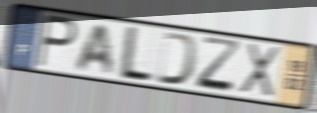A: (73, 22, 116, 77)
D: (154, 30, 201, 89)
L: (115, 24, 156, 85)
P: (33, 12, 79, 71)
X: (236, 41, 282, 101)
Z: (194, 34, 244, 96)
